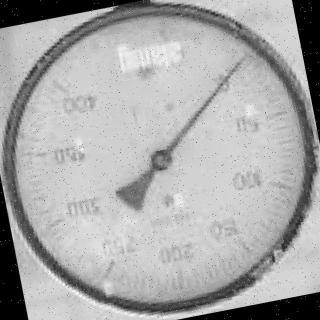gauge: (2, 0, 320, 320), (214, 42, 252, 88), (50, 76, 87, 108), (146, 145, 176, 175), (227, 53, 249, 73)
